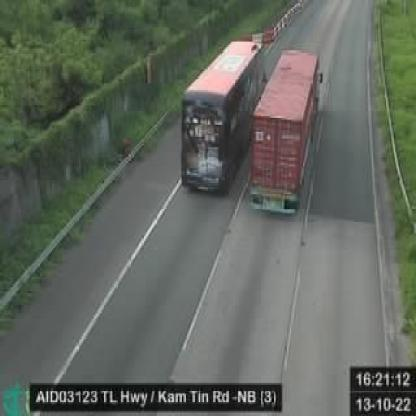Bus: (181, 42, 260, 195)
Truck: (250, 51, 323, 216)
